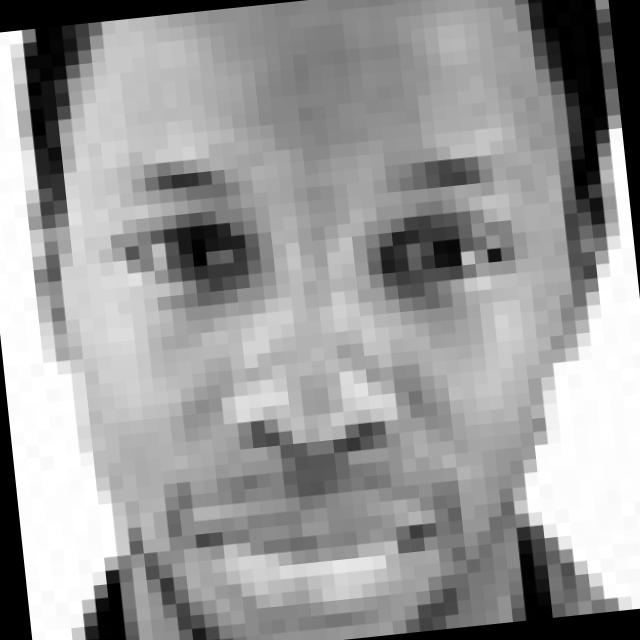neutral: (88, 119, 572, 640)
